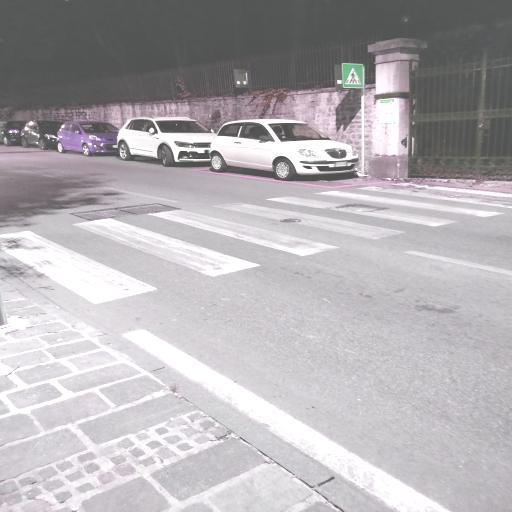crosswalk: (63, 198, 343, 280)
